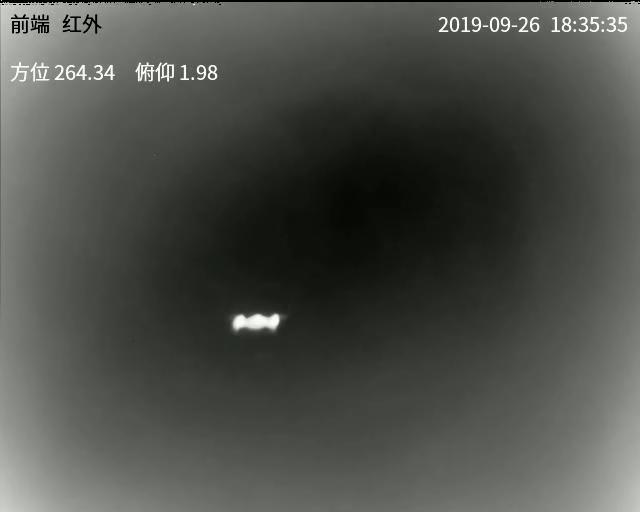uav: (225, 306, 286, 335)
